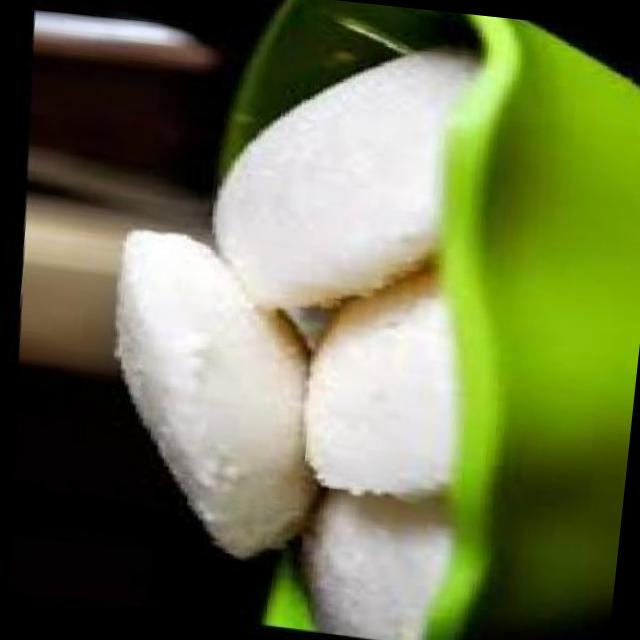idli: (194, 19, 496, 336), (85, 231, 342, 568), (284, 246, 473, 508), (276, 470, 455, 640)
